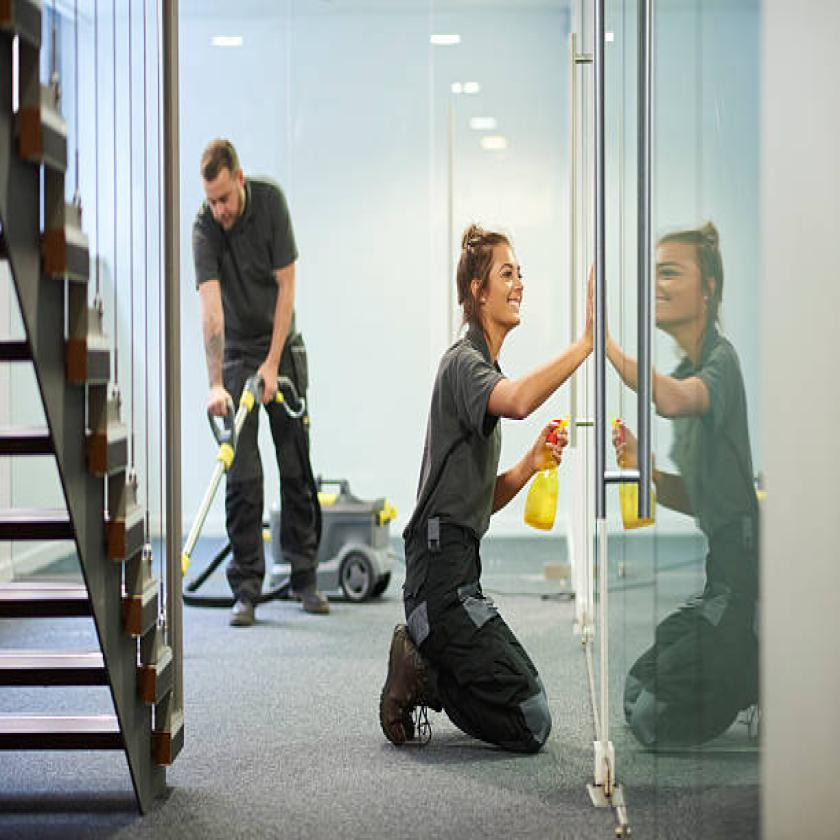Sin_casco: (442, 197, 542, 367), (195, 128, 246, 238)
